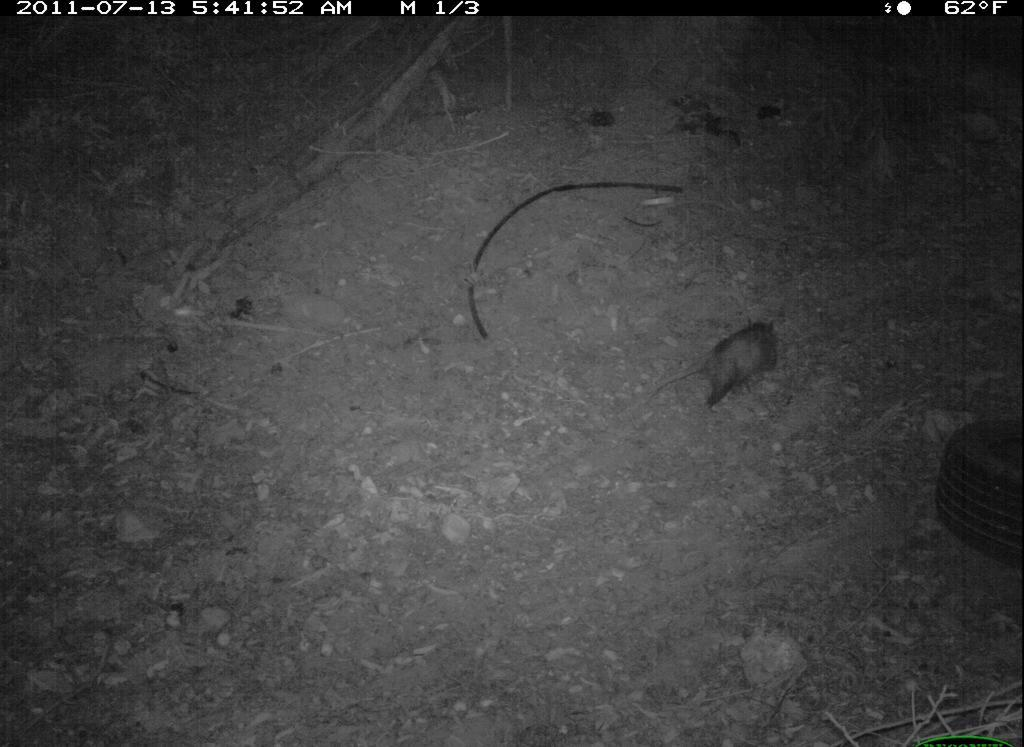opossum: (646, 314, 788, 424)
